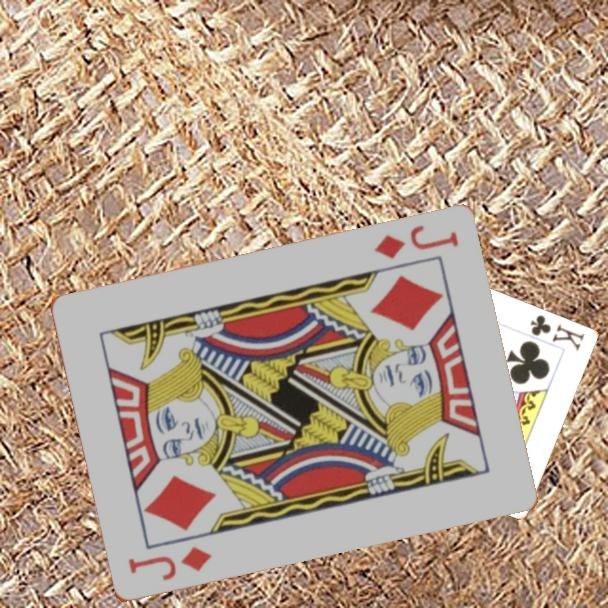c13: (526, 311, 587, 354)
d11: (124, 543, 215, 585), (370, 222, 461, 263)
